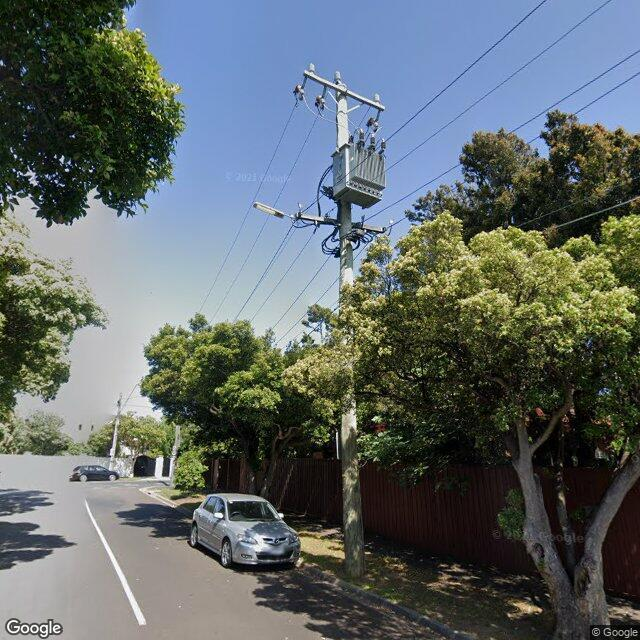HV-transmission: (293, 63, 385, 132)
crossarm: (304, 70, 386, 112), (292, 203, 394, 236)
streetlight: (253, 201, 296, 224), (121, 383, 141, 409)
timber-pole: (335, 80, 366, 578), (109, 393, 122, 471)
transformer: (332, 128, 386, 209)
